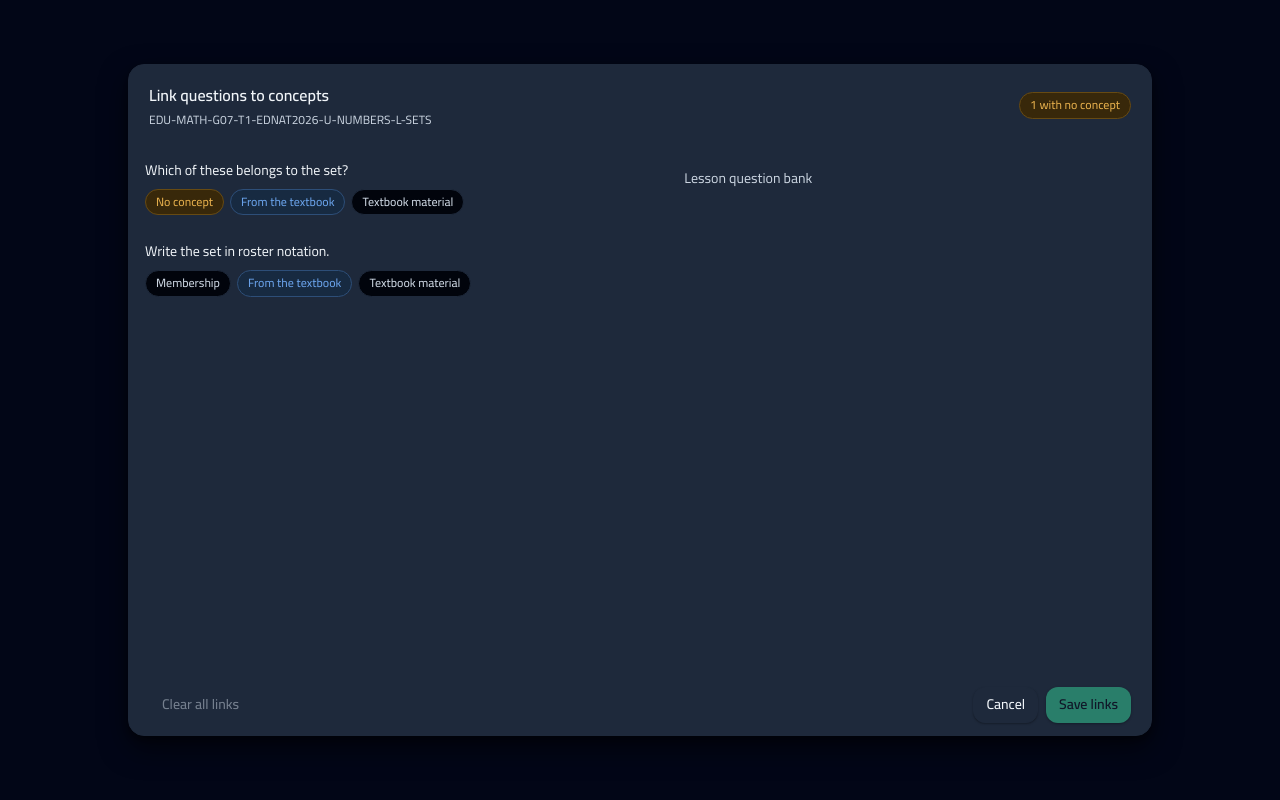
Scenario: saving links › warns that an unlinked question cannot be published
Click the text "Which of these belongs to the set?" at [247, 171], box [145,159,348,183]
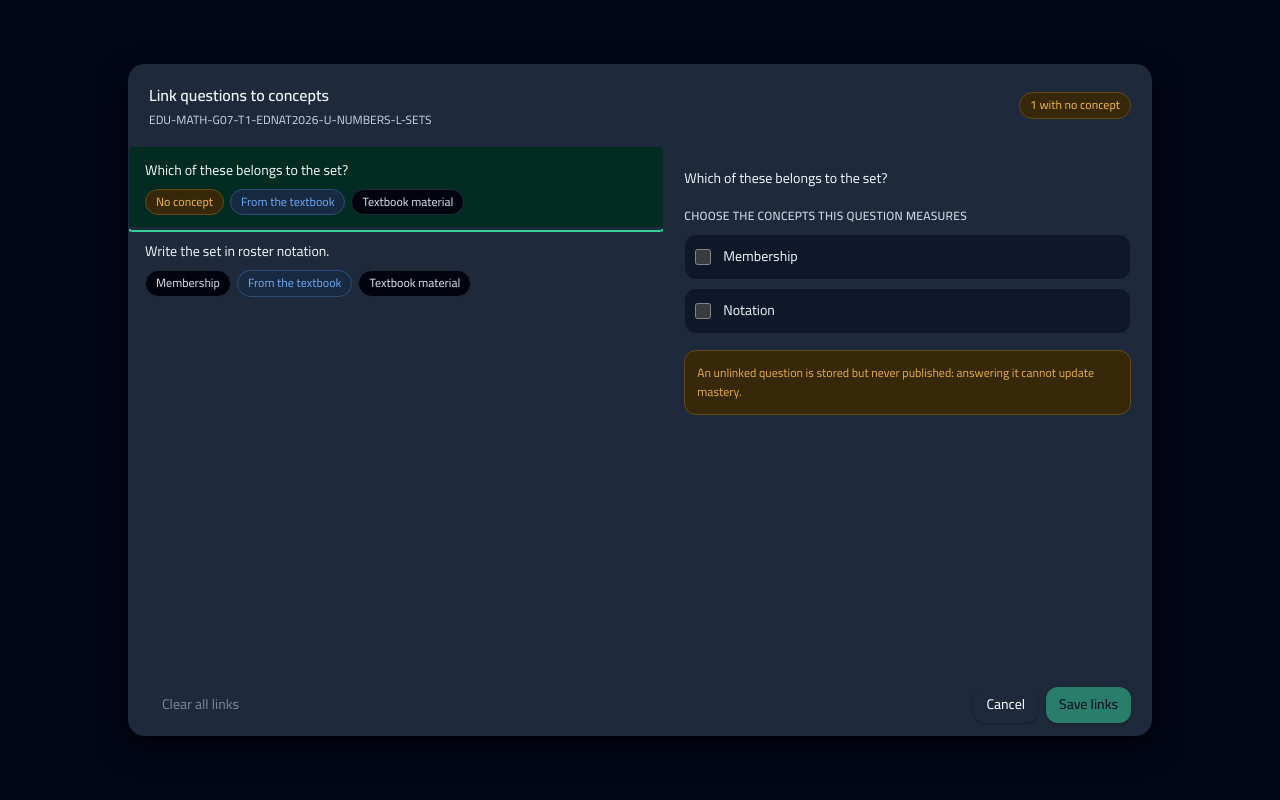
Expected: the text "never published" is shown, [697,361,1094,403]
